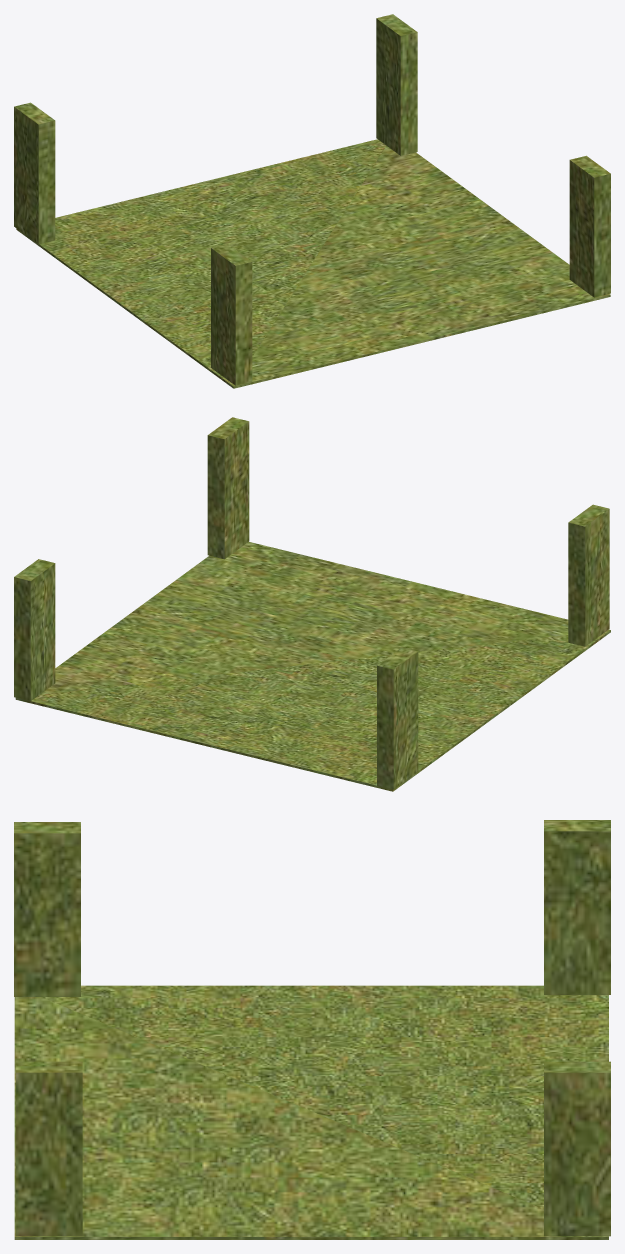
Rendered from Map.obj.
3 renders of one model, top to bottom at view 1: azimuth 30°, elevation 25°; view 2: azimuth 150°, elevation 25°; view 3: azimuth 270°, elevation 25°, orthographic. The views are drawn at different scales.
Parts seen in each view (by area): view 1: Box001; view 2: Box001; view 3: Box001.
Boxes of the visible parts, box(x1,y1,x2,y2) form: Box001: box(14, 14, 610, 388); Box001: box(14, 417, 610, 791); Box001: box(14, 820, 610, 1239).
Bounding box in the file's own units: 36.62 × 11.33 × 36.58.
